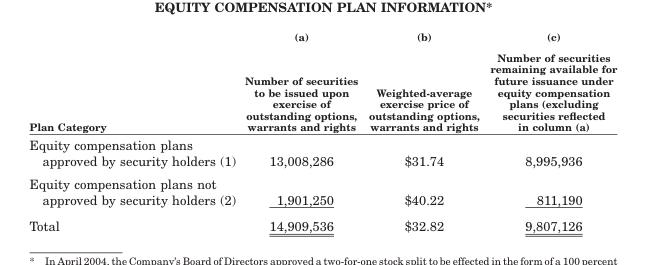table: (28, 29, 616, 233)
table column: (28, 29, 239, 233), (484, 29, 616, 233), (239, 29, 362, 233), (362, 29, 484, 233)
table column header: (28, 29, 616, 135)
table row: (28, 29, 616, 135), (28, 171, 616, 212), (28, 135, 616, 171), (28, 212, 616, 233)
